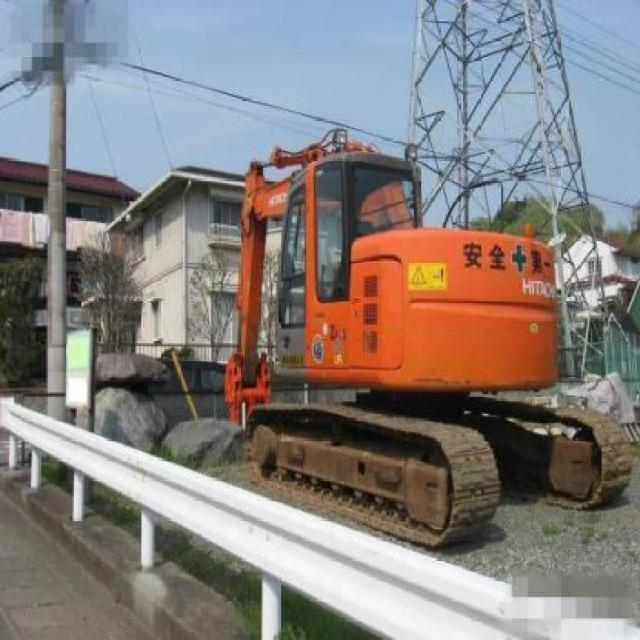Excavator: (221, 124, 622, 536)
